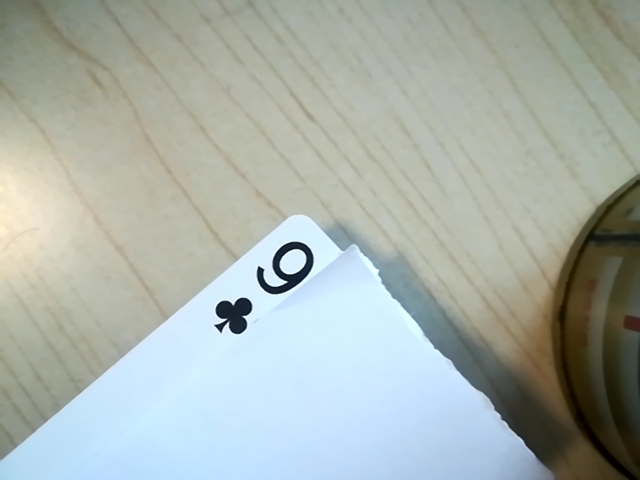mh 9: (204, 236, 335, 334)
